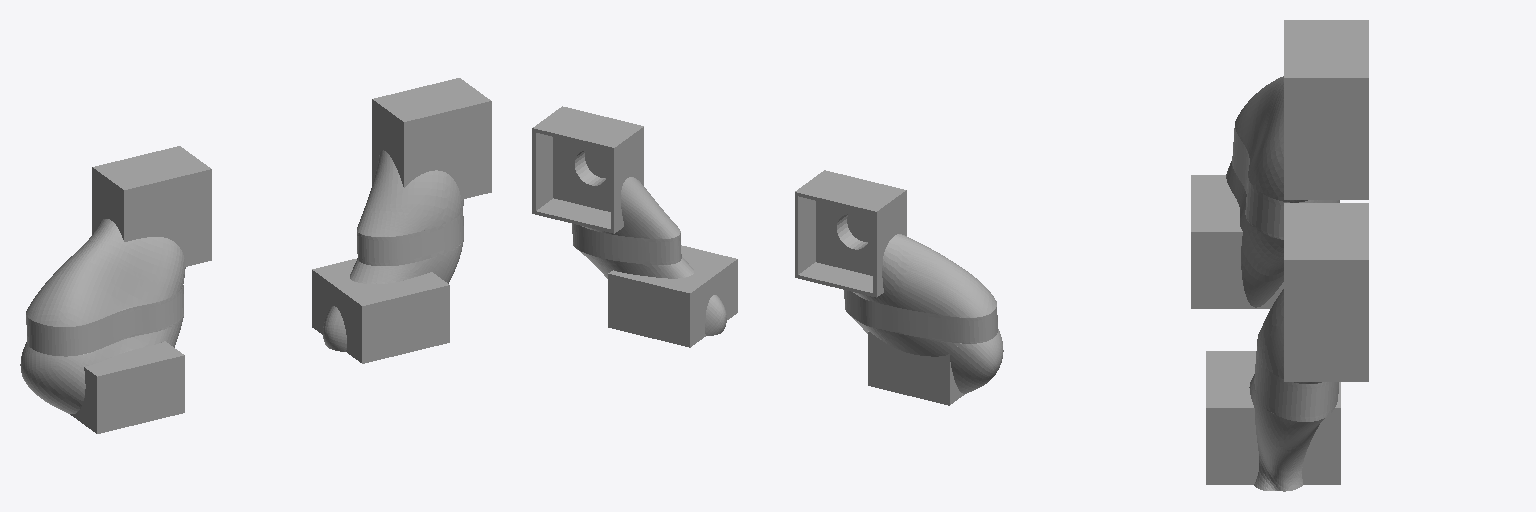
The robot description file, URDF, robot "FrogBot3_top-FrogBot3-z-3_bottom-FrogBot3-z-3":
<?xml version="1.0" ?>
<robot name="FrogBot3_top-FrogBot3-z-3_bottom-FrogBot3-z-3">

<material name="pla_5_percent_infill">
  <color rgba="0.700 0.700 0.700 1.000"/>
</material>

<link name="base_link">
  <inertial>
    <origin xyz="0 0 0" rpy="0 0 0"/>
    <mass value="1.5419899792307459"/>
    <inertia ixx="0.0054836076661745285" iyy="0.013703915460827342" izz="0.013742849788882953" ixy="5.961000823851627e-05" iyz="4.9944941207841843e-05" ixz="-0.0023657822822012154"/>
  </inertial>
  <visual>
    <origin xyz="0 0 0" rpy="0 0 0"/>
    <geometry>
      <mesh filename="simple_meshes/base_link.stl" scale="0.001 0.001 0.001"/>
    </geometry>
    <material name="pla_5_percent_infill"/>
  </visual>
  <collision>
    <origin xyz="0 0 0" rpy="0 0 0"/>
    <geometry>
      <mesh filename="simple_meshes/base_link.stl" scale="0.001 0.001 0.001"/>
    </geometry>
  </collision>
</link>

<link name="body_1_0_1">
  <inertial>
    <origin xyz="-0.065859 -0.113451 -0.001976" rpy="0 0 0"/>
    <mass value="0.042625750875155084"/>
    <inertia ixx="3.4641224399791035e-05" iyy="5.021167623384709e-05" izz="2.6491097934652156e-05" ixy="3.2619732955714792e-06" iyz="3.7394375823213426e-06" ixz="-1.4513714459056026e-05"/>
  </inertial>
  <visual>
    <origin xyz="-0.065859 -0.113451 -0.001976" rpy="0 0 0"/>
    <geometry>
      <mesh filename="simple_meshes/body_1_0_1.stl" scale="0.001 0.001 0.001"/>
    </geometry>
    <material name="pla_5_percent_infill"/>
  </visual>
  <collision>
    <origin xyz="-0.065859 -0.113451 -0.001976" rpy="0 0 0"/>
    <geometry>
      <mesh filename="simple_meshes/body_1_0_1.stl" scale="0.001 0.001 0.001"/>
    </geometry>
  </collision>
</link>

<link name="body_1_1_1">
  <inertial>
    <origin xyz="0.083929 -0.113451 -0.010696" rpy="0 0 0"/>
    <mass value="0.06452397709839196"/>
    <inertia ixx="5.155518546908627e-05" iyy="8.951750433276446e-05" izz="5.535845111843615e-05" ixy="6.458361727537014e-06" iyz="9.573194863686085e-06" ixz="-2.5043685811191078e-05"/>
  </inertial>
  <visual>
    <origin xyz="0.083929 -0.113451 -0.010696" rpy="0 0 0"/>
    <geometry>
      <mesh filename="simple_meshes/body_1_1_1.stl" scale="0.001 0.001 0.001"/>
    </geometry>
    <material name="pla_5_percent_infill"/>
  </visual>
  <collision>
    <origin xyz="0.083929 -0.113451 -0.010696" rpy="0 0 0"/>
    <geometry>
      <mesh filename="simple_meshes/body_1_1_1.stl" scale="0.001 0.001 0.001"/>
    </geometry>
  </collision>
</link>

<link name="body_1_2_1">
  <inertial>
    <origin xyz="-0.060736 0.113451 -0.005366" rpy="0 0 0"/>
    <mass value="0.04466471564648261"/>
    <inertia ixx="3.844714817747186e-05" iyy="5.306549351495947e-05" izz="2.6484493464122875e-05" ixy="-3.4974498559058194e-06" iyz="-5.419080466504252e-06" ixz="-1.529522760582896e-05"/>
  </inertial>
  <visual>
    <origin xyz="-0.060736 0.113451 -0.005366" rpy="0 0 0"/>
    <geometry>
      <mesh filename="simple_meshes/body_1_2_1.stl" scale="0.001 0.001 0.001"/>
    </geometry>
    <material name="pla_5_percent_infill"/>
  </visual>
  <collision>
    <origin xyz="-0.060736 0.113451 -0.005366" rpy="0 0 0"/>
    <geometry>
      <mesh filename="simple_meshes/body_1_2_1.stl" scale="0.001 0.001 0.001"/>
    </geometry>
  </collision>
</link>

<link name="body_1_3_1">
  <inertial>
    <origin xyz="0.093982 0.113451 -0.005431" rpy="0 0 0"/>
    <mass value="0.06510976023996005"/>
    <inertia ixx="4.713460964364275e-05" iyy="7.73154216382058e-05" izz="4.876239424349369e-05" ixy="-4.687275193743625e-06" iyz="-8.383384886503193e-06" ixz="-1.836097457693915e-05"/>
  </inertial>
  <visual>
    <origin xyz="0.093982 0.113451 -0.005431" rpy="0 0 0"/>
    <geometry>
      <mesh filename="simple_meshes/body_1_3_1.stl" scale="0.001 0.001 0.001"/>
    </geometry>
    <material name="pla_5_percent_infill"/>
  </visual>
  <collision>
    <origin xyz="0.093982 0.113451 -0.005431" rpy="0 0 0"/>
    <geometry>
      <mesh filename="simple_meshes/body_1_3_1.stl" scale="0.001 0.001 0.001"/>
    </geometry>
  </collision>
</link>

<link name="body_2_0_1">
  <inertial>
    <origin xyz="-0.026166 -0.164707 0.097895" rpy="0 0 0"/>
    <mass value="0.08399648447663655"/>
    <inertia ixx="7.263491335863376e-05" iyy="0.00019832664381089085" izz="0.00019801361775360644" ixy="4.3467019951357565e-06" iyz="-3.485235118188927e-06" ixz="6.747762010143529e-05"/>
  </inertial>
  <visual>
    <origin xyz="-0.026166 -0.164707 0.097895" rpy="0 0 0"/>
    <geometry>
      <mesh filename="simple_meshes/body_2_0_1.stl" scale="0.001 0.001 0.001"/>
    </geometry>
    <material name="pla_5_percent_infill"/>
  </visual>
  <collision>
    <origin xyz="-0.026166 -0.164707 0.097895" rpy="0 0 0"/>
    <geometry>
      <mesh filename="simple_meshes/body_2_0_1.stl" scale="0.001 0.001 0.001"/>
    </geometry>
  </collision>
</link>

<link name="body_2_1_1">
  <inertial>
    <origin xyz="0.127747 -0.174737 0.097895" rpy="0 0 0"/>
    <mass value="0.07285009259021573"/>
    <inertia ixx="5.193389730767401e-05" iyy="9.887195755299734e-05" izz="9.986799282611907e-05" ixy="-9.324094815585729e-06" iyz="3.306540004667513e-06" ixz="3.4712907666732684e-05"/>
  </inertial>
  <visual>
    <origin xyz="0.127747 -0.174737 0.097895" rpy="0 0 0"/>
    <geometry>
      <mesh filename="simple_meshes/body_2_1_1.stl" scale="0.001 0.001 0.001"/>
    </geometry>
    <material name="pla_5_percent_infill"/>
  </visual>
  <collision>
    <origin xyz="0.127747 -0.174737 0.097895" rpy="0 0 0"/>
    <geometry>
      <mesh filename="simple_meshes/body_2_1_1.stl" scale="0.001 0.001 0.001"/>
    </geometry>
  </collision>
</link>

<link name="body_2_2_1">
  <inertial>
    <origin xyz="-0.021708 0.167525 0.097895" rpy="0 0 0"/>
    <mass value="0.08411063140421357"/>
    <inertia ixx="7.1988506724973e-05" iyy="0.00019592412323586085" izz="0.00019558216591522137" ixy="1.8047557980023065e-06" iyz="-1.1835661260554096e-06" ixz="6.643863381459373e-05"/>
  </inertial>
  <visual>
    <origin xyz="-0.021708 0.167525 0.097895" rpy="0 0 0"/>
    <geometry>
      <mesh filename="simple_meshes/body_2_2_1.stl" scale="0.001 0.001 0.001"/>
    </geometry>
    <material name="pla_5_percent_infill"/>
  </visual>
  <collision>
    <origin xyz="-0.021708 0.167525 0.097895" rpy="0 0 0"/>
    <geometry>
      <mesh filename="simple_meshes/body_2_2_1.stl" scale="0.001 0.001 0.001"/>
    </geometry>
  </collision>
</link>

<link name="body_2_3_1">
  <inertial>
    <origin xyz="0.128136 0.172985 0.097895" rpy="0 0 0"/>
    <mass value="0.07039286684904554"/>
    <inertia ixx="5.404241570171071e-05" iyy="9.308995673441931e-05" izz="9.872996845404882e-05" ixy="7.5303742060890255e-06" iyz="-4.414948381533789e-06" ixz="3.195672940100214e-05"/>
  </inertial>
  <visual>
    <origin xyz="0.128136 0.172985 0.097895" rpy="0 0 0"/>
    <geometry>
      <mesh filename="simple_meshes/body_2_3_1.stl" scale="0.001 0.001 0.001"/>
    </geometry>
    <material name="pla_5_percent_infill"/>
  </visual>
  <collision>
    <origin xyz="0.128136 0.172985 0.097895" rpy="0 0 0"/>
    <geometry>
      <mesh filename="simple_meshes/body_2_3_1.stl" scale="0.001 0.001 0.001"/>
    </geometry>
  </collision>
</link>

<joint name="joint_1_0" type="revolute">
  <origin xyz="0.065859 0.113451 0.001976" rpy="0 0 0"/>
  <parent link="base_link"/>
  <child link="body_1_0_1"/>
  <axis xyz="0.0 1.0 0.0"/>
  <limit upper="1.2" lower="-1.2" effort="3.8" velocity="5.4"/>
</joint>
<transmission name="joint_1_0_tran">
  <type>transmission_interface/SimpleTransmission</type>
  <joint name="joint_1_0">
    <hardwareInterface>PositionJointInterface</hardwareInterface>
  </joint>
  <actuator name="joint_1_0_actr">
    <hardwareInterface>PositionJointInterface</hardwareInterface>
    <mechanicalReduction>1</mechanicalReduction>
  </actuator>
</transmission>

<joint name="joint_1_1" type="revolute">
  <origin xyz="-0.083929 0.113451 0.010696" rpy="0 0 0"/>
  <parent link="base_link"/>
  <child link="body_1_1_1"/>
  <axis xyz="0.0 1.0 0.0"/>
  <limit upper="1.2" lower="-1.2" effort="3.8" velocity="5.4"/>
</joint>
<transmission name="joint_1_1_tran">
  <type>transmission_interface/SimpleTransmission</type>
  <joint name="joint_1_1">
    <hardwareInterface>PositionJointInterface</hardwareInterface>
  </joint>
  <actuator name="joint_1_1_actr">
    <hardwareInterface>PositionJointInterface</hardwareInterface>
    <mechanicalReduction>1</mechanicalReduction>
  </actuator>
</transmission>

<joint name="joint_1_2" type="revolute">
  <origin xyz="0.060736 -0.113451 0.005366" rpy="0 0 0"/>
  <parent link="base_link"/>
  <child link="body_1_2_1"/>
  <axis xyz="0.0 1.0 0.0"/>
  <limit upper="1.2" lower="-1.2" effort="3.8" velocity="5.4"/>
</joint>
<transmission name="joint_1_2_tran">
  <type>transmission_interface/SimpleTransmission</type>
  <joint name="joint_1_2">
    <hardwareInterface>PositionJointInterface</hardwareInterface>
  </joint>
  <actuator name="joint_1_2_actr">
    <hardwareInterface>PositionJointInterface</hardwareInterface>
    <mechanicalReduction>1</mechanicalReduction>
  </actuator>
</transmission>

<joint name="joint_1_3" type="revolute">
  <origin xyz="-0.093982 -0.113451 0.005431" rpy="0 0 0"/>
  <parent link="base_link"/>
  <child link="body_1_3_1"/>
  <axis xyz="0.0 1.0 0.0"/>
  <limit upper="1.2" lower="-1.2" effort="3.8" velocity="5.4"/>
</joint>
<transmission name="joint_1_3_tran">
  <type>transmission_interface/SimpleTransmission</type>
  <joint name="joint_1_3">
    <hardwareInterface>PositionJointInterface</hardwareInterface>
  </joint>
  <actuator name="joint_1_3_actr">
    <hardwareInterface>PositionJointInterface</hardwareInterface>
    <mechanicalReduction>1</mechanicalReduction>
  </actuator>
</transmission>

<joint name="joint_2_0" type="revolute">
  <origin xyz="-0.039693 0.051256 -0.099871" rpy="0 0 0"/>
  <parent link="body_1_0_1"/>
  <child link="body_2_0_1"/>
  <axis xyz="0.0 0.0 1.0"/>
  <limit upper="1.2" lower="-1.2" effort="3.8" velocity="5.4"/>
</joint>
<transmission name="joint_2_0_tran">
  <type>transmission_interface/SimpleTransmission</type>
  <joint name="joint_2_0">
    <hardwareInterface>PositionJointInterface</hardwareInterface>
  </joint>
  <actuator name="joint_2_0_actr">
    <hardwareInterface>PositionJointInterface</hardwareInterface>
    <mechanicalReduction>1</mechanicalReduction>
  </actuator>
</transmission>

<joint name="joint_2_1" type="revolute">
  <origin xyz="-0.043818 0.061286 -0.108591" rpy="0 0 0"/>
  <parent link="body_1_1_1"/>
  <child link="body_2_1_1"/>
  <axis xyz="0.0 0.0 1.0"/>
  <limit upper="1.2" lower="-1.2" effort="3.8" velocity="5.4"/>
</joint>
<transmission name="joint_2_1_tran">
  <type>transmission_interface/SimpleTransmission</type>
  <joint name="joint_2_1">
    <hardwareInterface>PositionJointInterface</hardwareInterface>
  </joint>
  <actuator name="joint_2_1_actr">
    <hardwareInterface>PositionJointInterface</hardwareInterface>
    <mechanicalReduction>1</mechanicalReduction>
  </actuator>
</transmission>

<joint name="joint_2_2" type="revolute">
  <origin xyz="-0.039028 -0.054074 -0.103261" rpy="0 0 0"/>
  <parent link="body_1_2_1"/>
  <child link="body_2_2_1"/>
  <axis xyz="0.0 0.0 1.0"/>
  <limit upper="1.2" lower="-1.2" effort="3.8" velocity="5.4"/>
</joint>
<transmission name="joint_2_2_tran">
  <type>transmission_interface/SimpleTransmission</type>
  <joint name="joint_2_2">
    <hardwareInterface>PositionJointInterface</hardwareInterface>
  </joint>
  <actuator name="joint_2_2_actr">
    <hardwareInterface>PositionJointInterface</hardwareInterface>
    <mechanicalReduction>1</mechanicalReduction>
  </actuator>
</transmission>

<joint name="joint_2_3" type="revolute">
  <origin xyz="-0.034154 -0.059534 -0.103326" rpy="0 0 0"/>
  <parent link="body_1_3_1"/>
  <child link="body_2_3_1"/>
  <axis xyz="0.0 0.0 1.0"/>
  <limit upper="1.2" lower="-1.2" effort="3.8" velocity="5.4"/>
</joint>
<transmission name="joint_2_3_tran">
  <type>transmission_interface/SimpleTransmission</type>
  <joint name="joint_2_3">
    <hardwareInterface>PositionJointInterface</hardwareInterface>
  </joint>
  <actuator name="joint_2_3_actr">
    <hardwareInterface>PositionJointInterface</hardwareInterface>
    <mechanicalReduction>1</mechanicalReduction>
  </actuator>
</transmission>

</robot>

--- What the picture shows (computed from the rendered views, not written in the file) ---
Views: 3 orthographic renders of the robot side by side, from view 1: azimuth 30°, elevation 25°; view 2: azimuth 150°, elevation 25°; view 3: azimuth 270°, elevation 25°.
Robot: FrogBot3_top-FrogBot3-z-3_bottom-FrogBot3-z-3 — 9 links, 8 joints (8 revolute); root link base_link; default pose: every joint at zero.
Links seen in each view (by area): view 1: body_1_3_1, body_1_2_1; view 2: body_1_3_1, body_1_2_1; view 3: body_1_2_1, body_1_3_1.
Link boxes in pixels (left/top/right/bottom): body_1_3_1: left=20, top=146, right=211, bottom=433; body_1_2_1: left=312, top=78, right=491, bottom=363; body_1_3_1: left=795, top=170, right=1003, bottom=405; body_1_2_1: left=532, top=106, right=737, bottom=347; body_1_2_1: left=1206, top=203, right=1368, bottom=491; body_1_3_1: left=1191, top=20, right=1368, bottom=308.
Bounding box of the posed robot: 0.2581 × 0.0637 × 0.1075 m (x, y, z).
Meshes: 9 distinct files referenced, 2 mesh visuals loaded (2 binary STL); not drawn: 7 (reference not matched to a file when rendering).